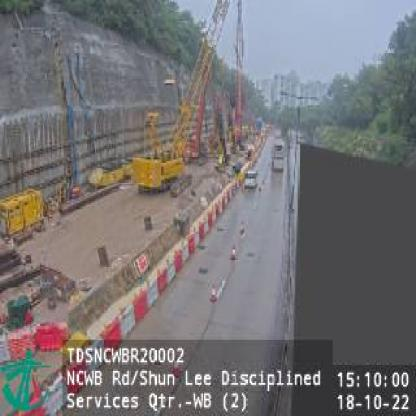Bus: (270, 136, 286, 174)
Car: (243, 169, 261, 193)
